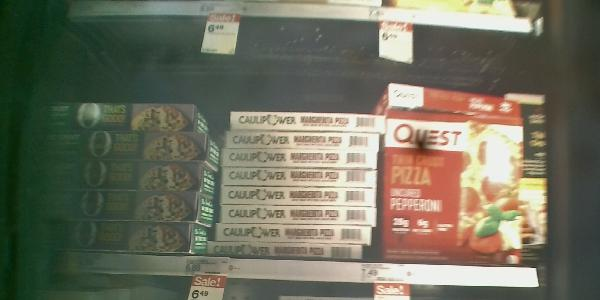pizza1: (19, 160, 205, 192), (18, 193, 203, 222), (16, 222, 194, 252), (25, 104, 199, 133), (390, 83, 522, 120), (20, 135, 208, 160), (218, 150, 377, 173), (218, 206, 377, 227), (230, 110, 386, 131), (218, 187, 375, 207), (223, 133, 378, 152), (218, 224, 373, 243), (222, 168, 376, 187), (210, 242, 361, 258)
